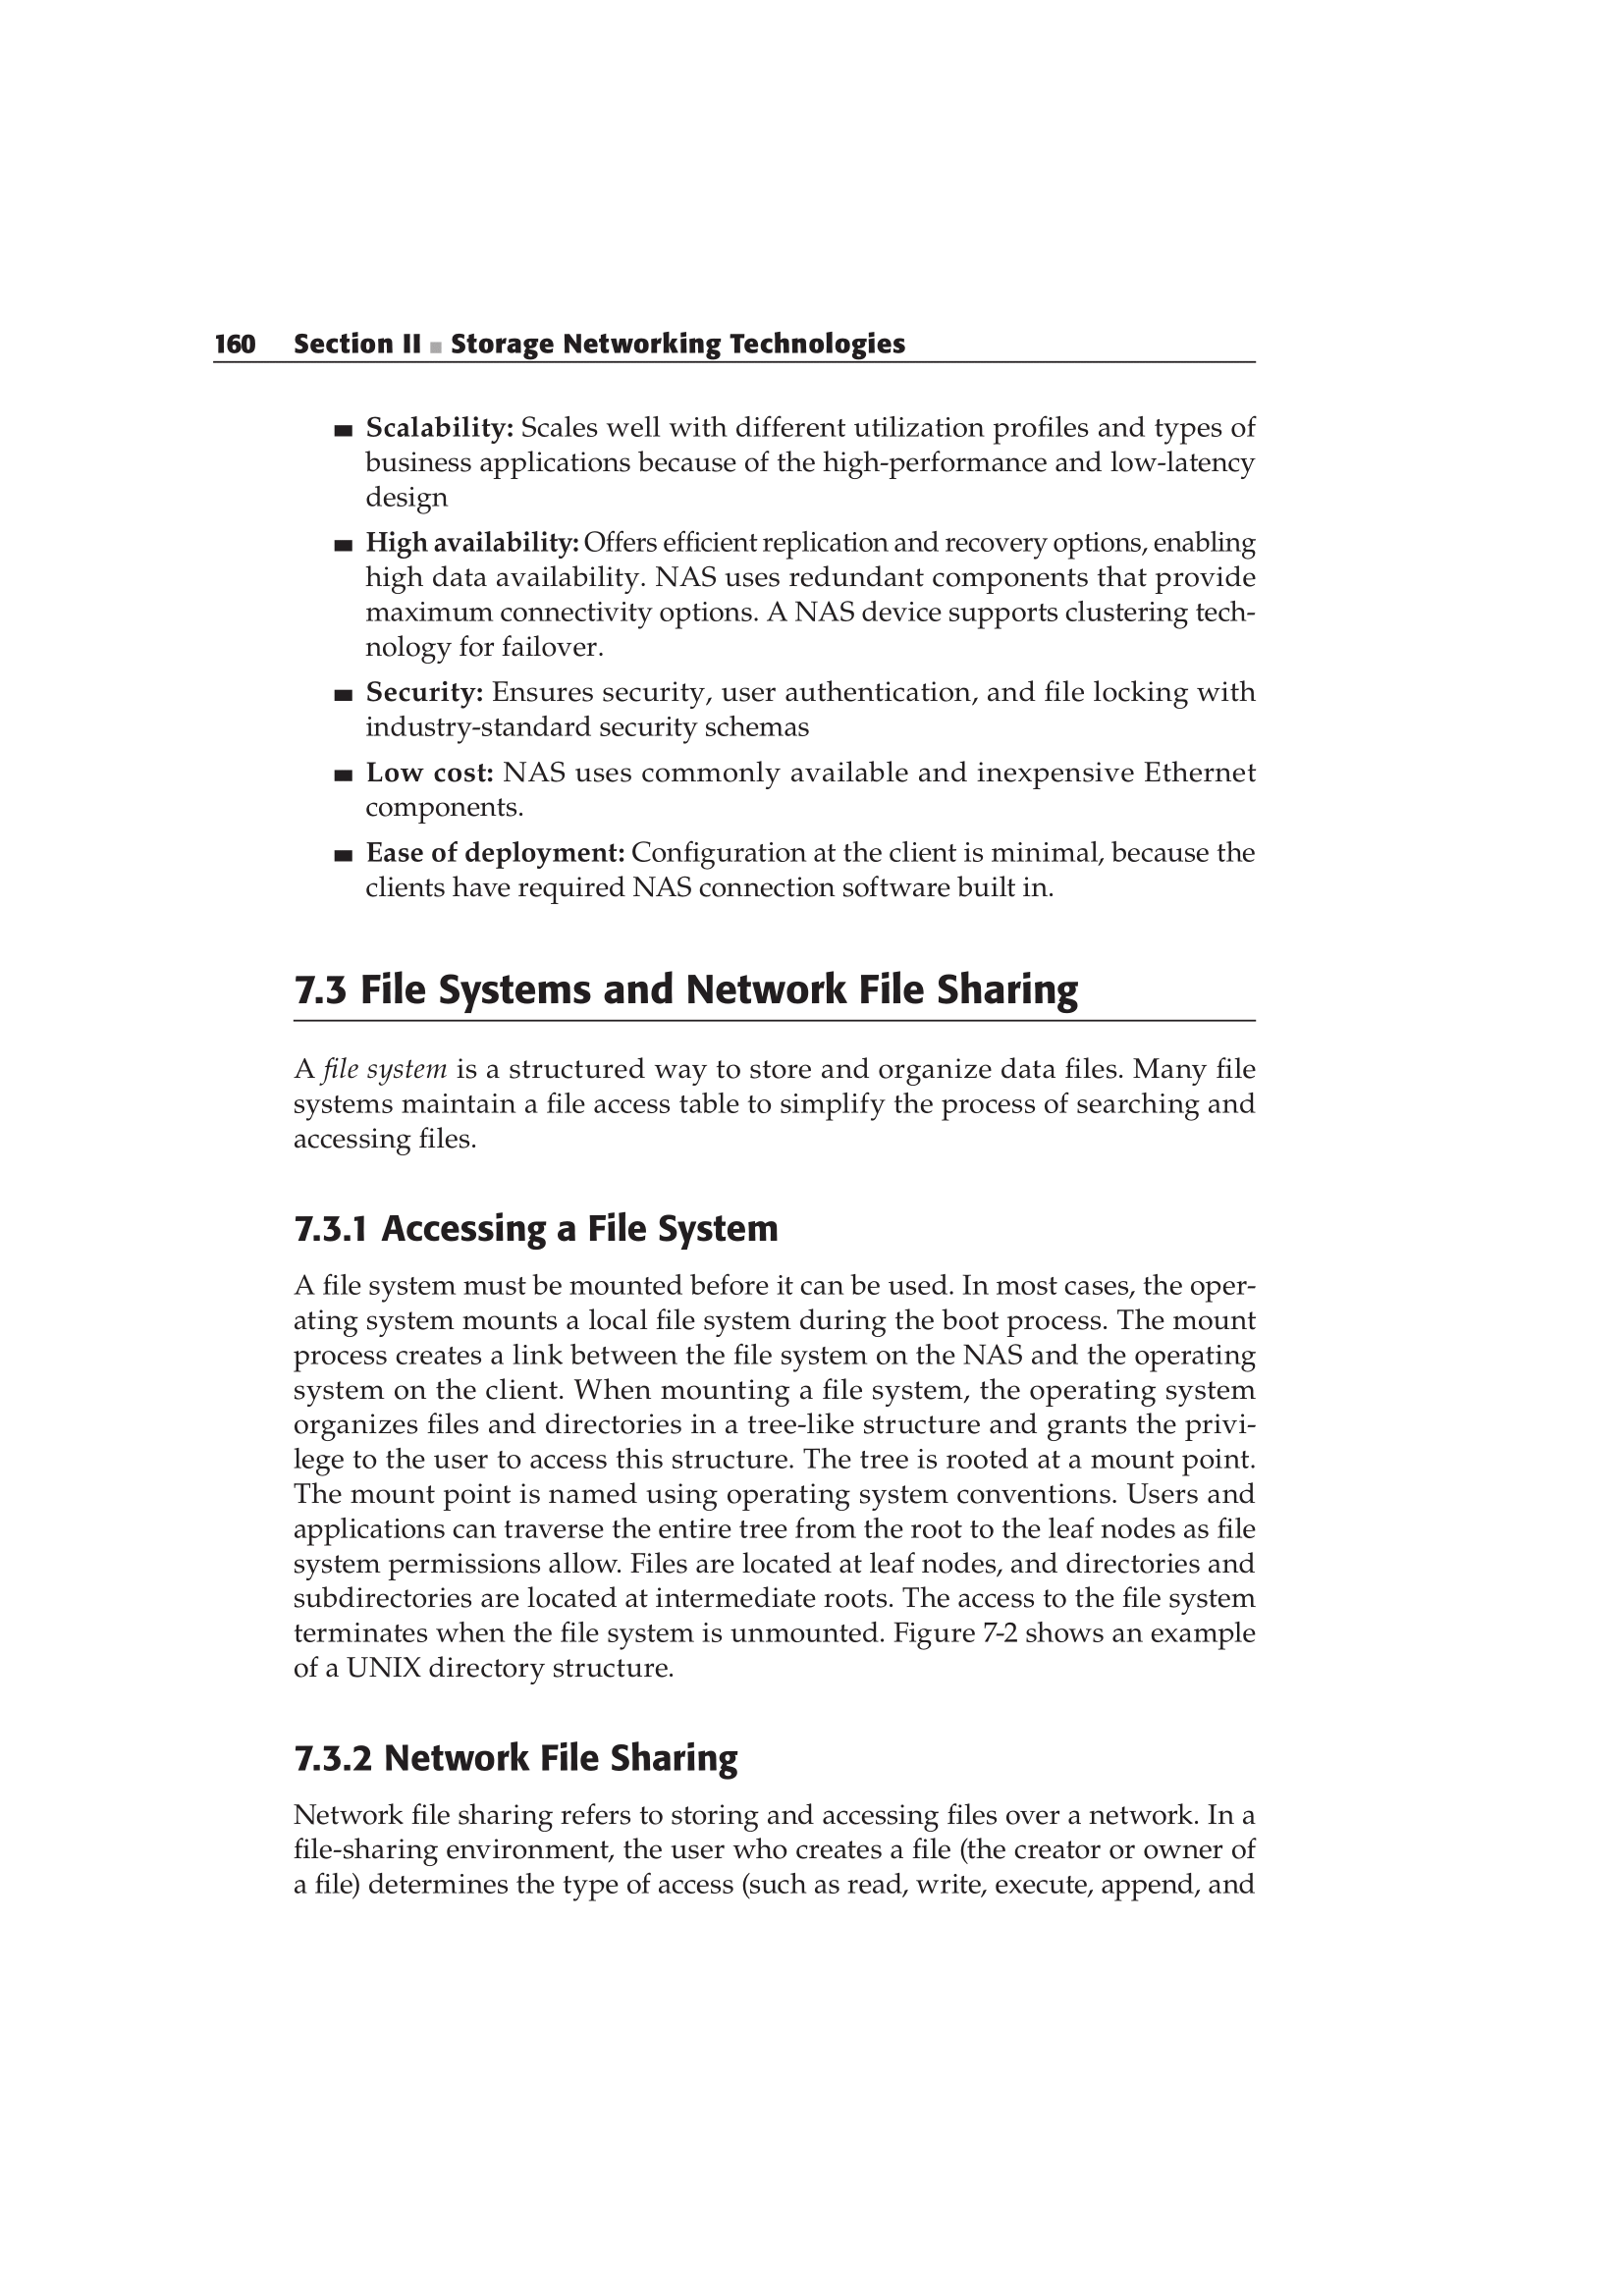Paragraph: (184, 1260, 1337, 1689), (202, 511, 1382, 674), (206, 1794, 1361, 1927), (197, 377, 1409, 502), (197, 1043, 1324, 1166), (97, 256, 1149, 360), (281, 671, 1396, 755), (323, 837, 1316, 925), (276, 758, 1345, 830), (242, 960, 1240, 1030), (188, 1185, 985, 1248), (235, 1731, 898, 1785)
